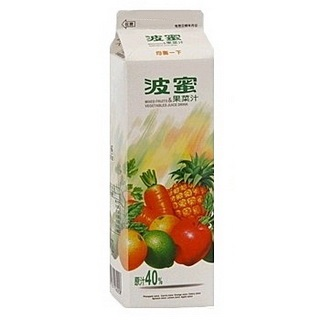vegetables juice: (104, 11, 218, 311)
